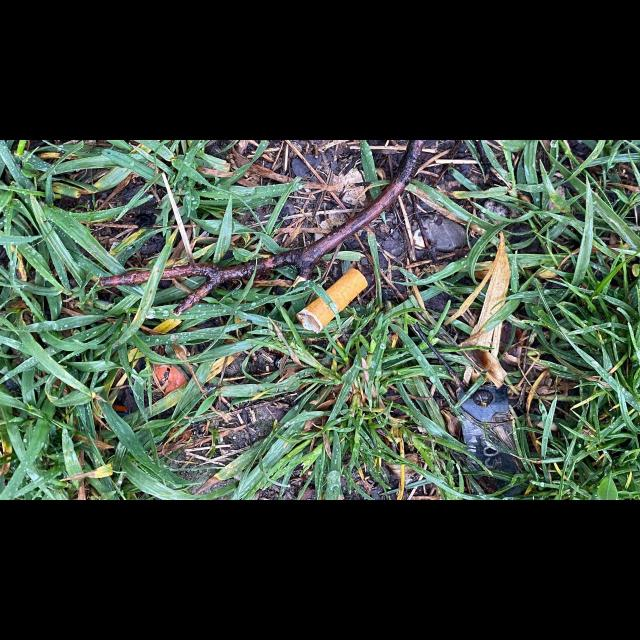cigarette: (295, 268, 368, 334)
